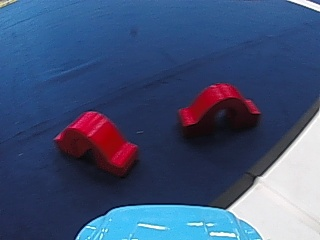bridge: (52, 108, 144, 179), (174, 79, 262, 135)
